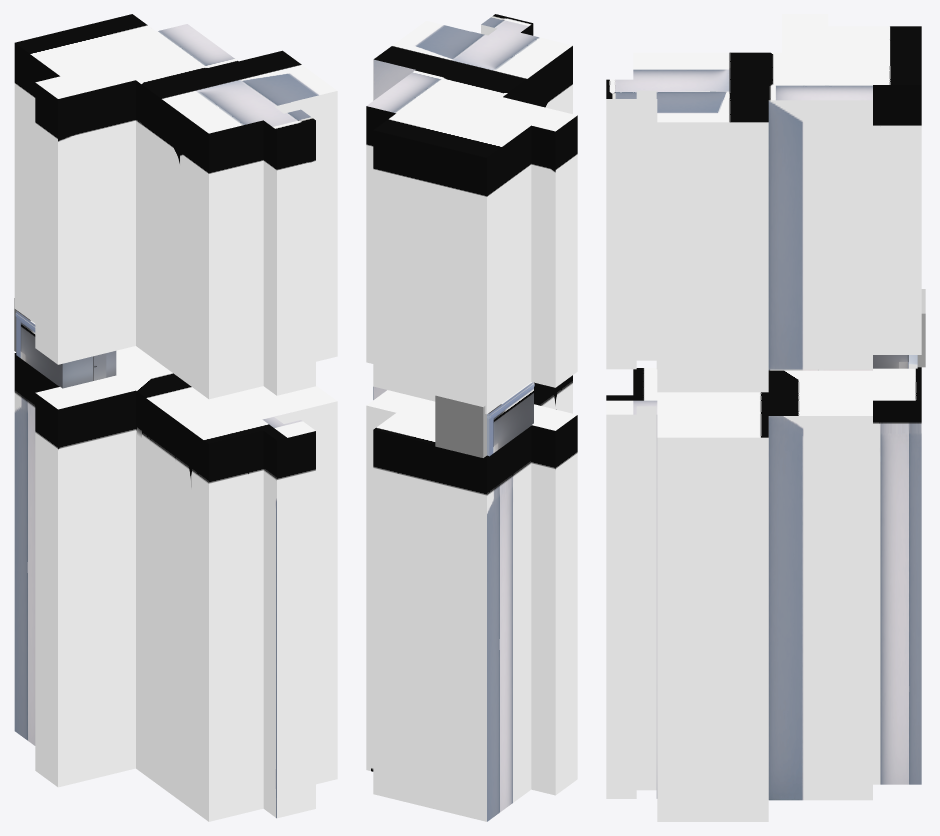
The model's file is scene-bottom.glb.
3 renders of one model, left to right at view 1: azimuth 30°, elevation 25°; view 2: azimuth 150°, elevation 25°; view 3: azimuth 270°, elevation 25°, orthographic. The views are drawn at different scales.
Visible parts, largest first — view 1: 立方体.005, 立方体; view 2: 立方体.005, 立方体.001, 立方体; view 3: 立方体.005, 立方体.
Boxes of the visible parts, x1,y1,x2,y2 form: 立方体.005: (14,14,337,821); 立方体: (16,310,116,388); 立方体.005: (366,14,577,821); 立方体.001: (435,394,486,457); 立方体: (487,382,533,456); 立方体.005: (606,14,921,821); 立方体: (873,355,917,368).
Bounding box in the file's own units: 156 × 472 × 195.
Materials: 10 (5 with a texture image).
